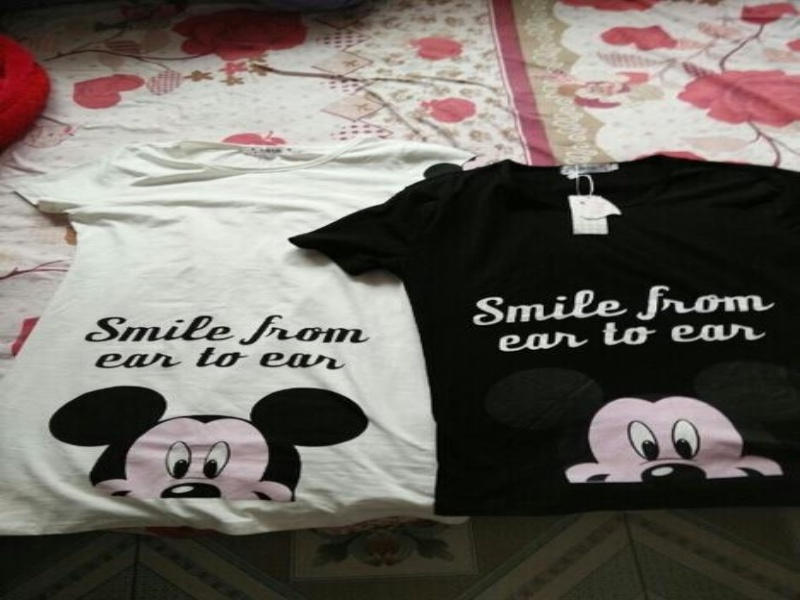short_sleeved_dress: (2, 136, 477, 546)
short_sleeved_shirt: (280, 153, 797, 524)
